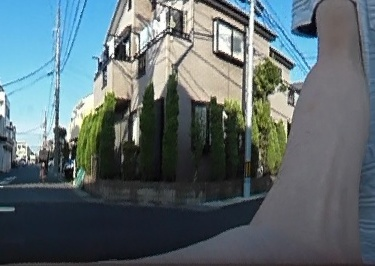person: (37, 146, 49, 178)
